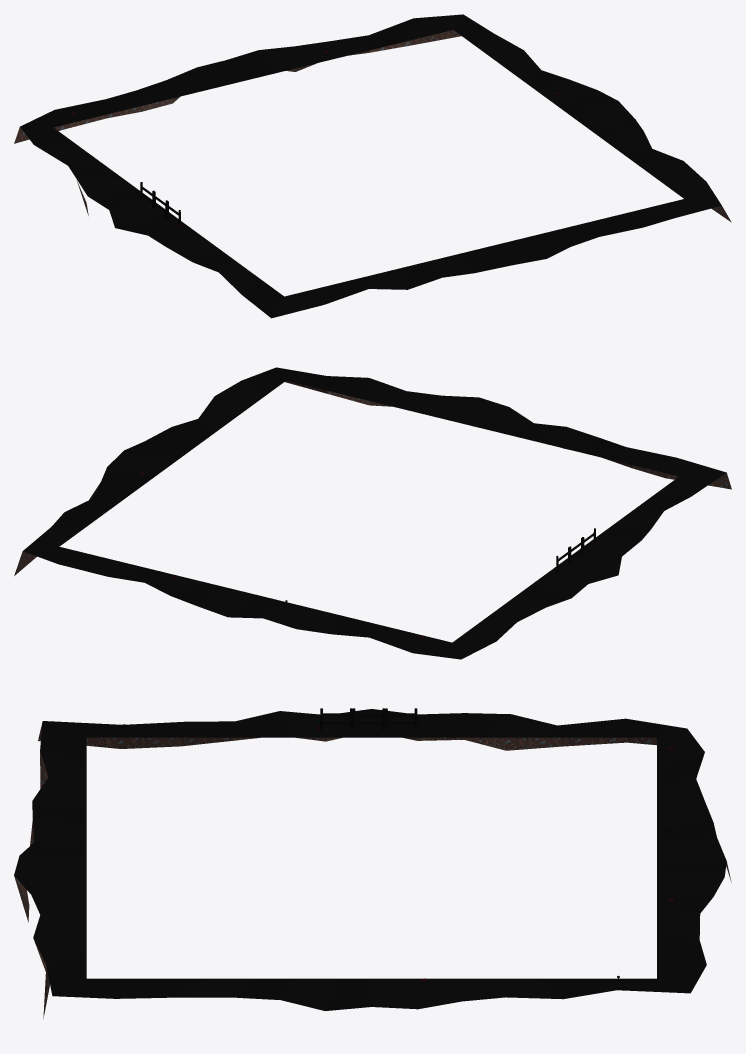
Rendered from entorno_16.fbx.
3 views of the same model, one above another, from view 1: azimuth 30°, elevation 25°; view 2: azimuth 150°, elevation 25°; view 3: azimuth 270°, elevation 25° (orthographic). The views are drawn at different scales.
Parts seen in each view (by area): view 1: bosque_entorno_16; view 2: bosque_entorno_16; view 3: bosque_entorno_16.
Part boxes in pixels (x1,y1,x2,y2): bosque_entorno_16: (14, 14, 731, 318); bosque_entorno_16: (14, 367, 731, 659); bosque_entorno_16: (14, 708, 731, 1018).
Size of the model in its own units: 2059 by 170 by 2039.
